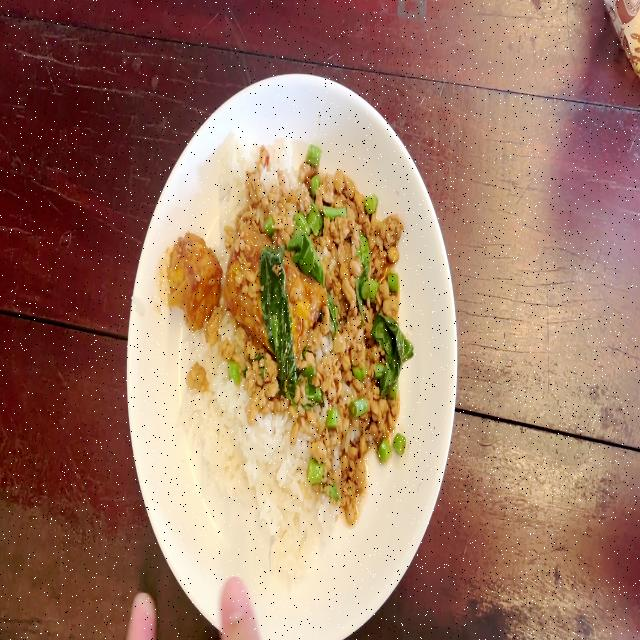fried_tofo: (227, 232, 316, 357), (171, 237, 214, 317)
minced_pork: (318, 246, 402, 503), (244, 151, 404, 245)
rice: (195, 371, 317, 555)
stir_fried_basil: (168, 138, 414, 584)
